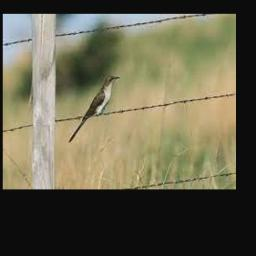Cuckoo: (69, 75, 121, 143)
